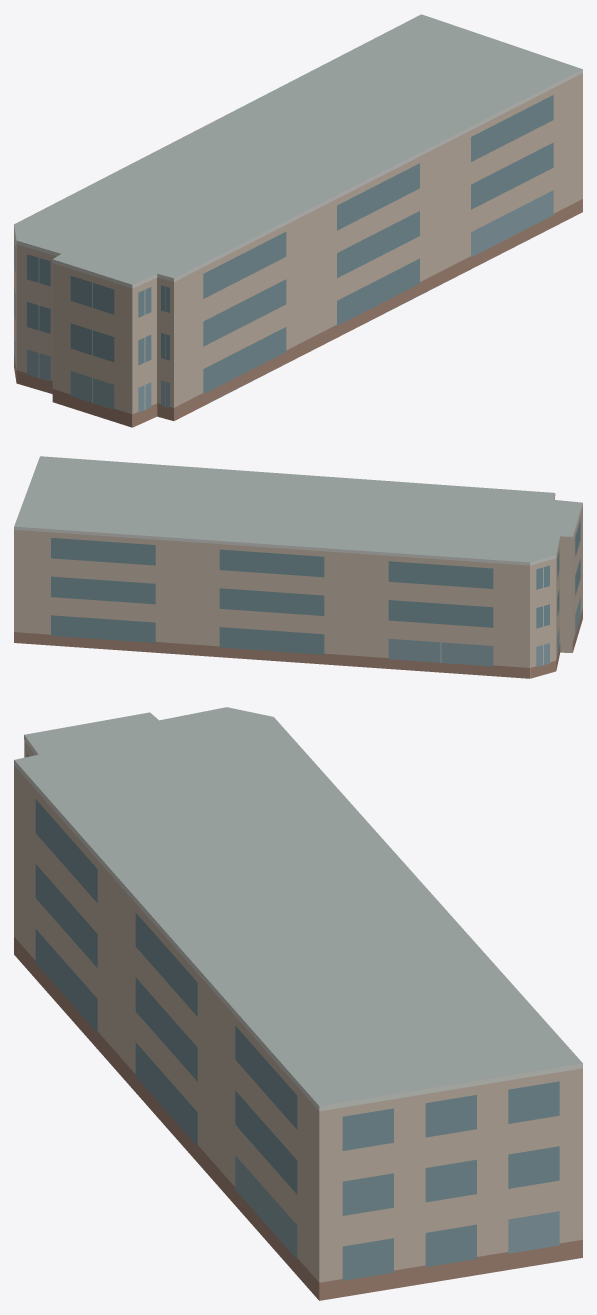
File: survey-upis-32834258.glb
3 views of the same model, one above another, from view 1: azimuth 30°, elevation 25°; view 2: azimuth 150°, elevation 25°; view 3: azimuth 270°, elevation 25° (orthographic). The views are drawn at different scales.
Visible parts, largest first — view 1: survey-upis-32834258.tmp; view 2: survey-upis-32834258.tmp; view 3: survey-upis-32834258.tmp.
Part boxes in pixels (x1=…): survey-upis-32834258.tmp: x1=14, y1=14, x2=582, y2=427; survey-upis-32834258.tmp: x1=14, y1=456, x2=582, y2=678; survey-upis-32834258.tmp: x1=14, y1=707, x2=582, y2=1300.
Bounding box in the file's own units: 40.24 × 9.15 × 24.24.
